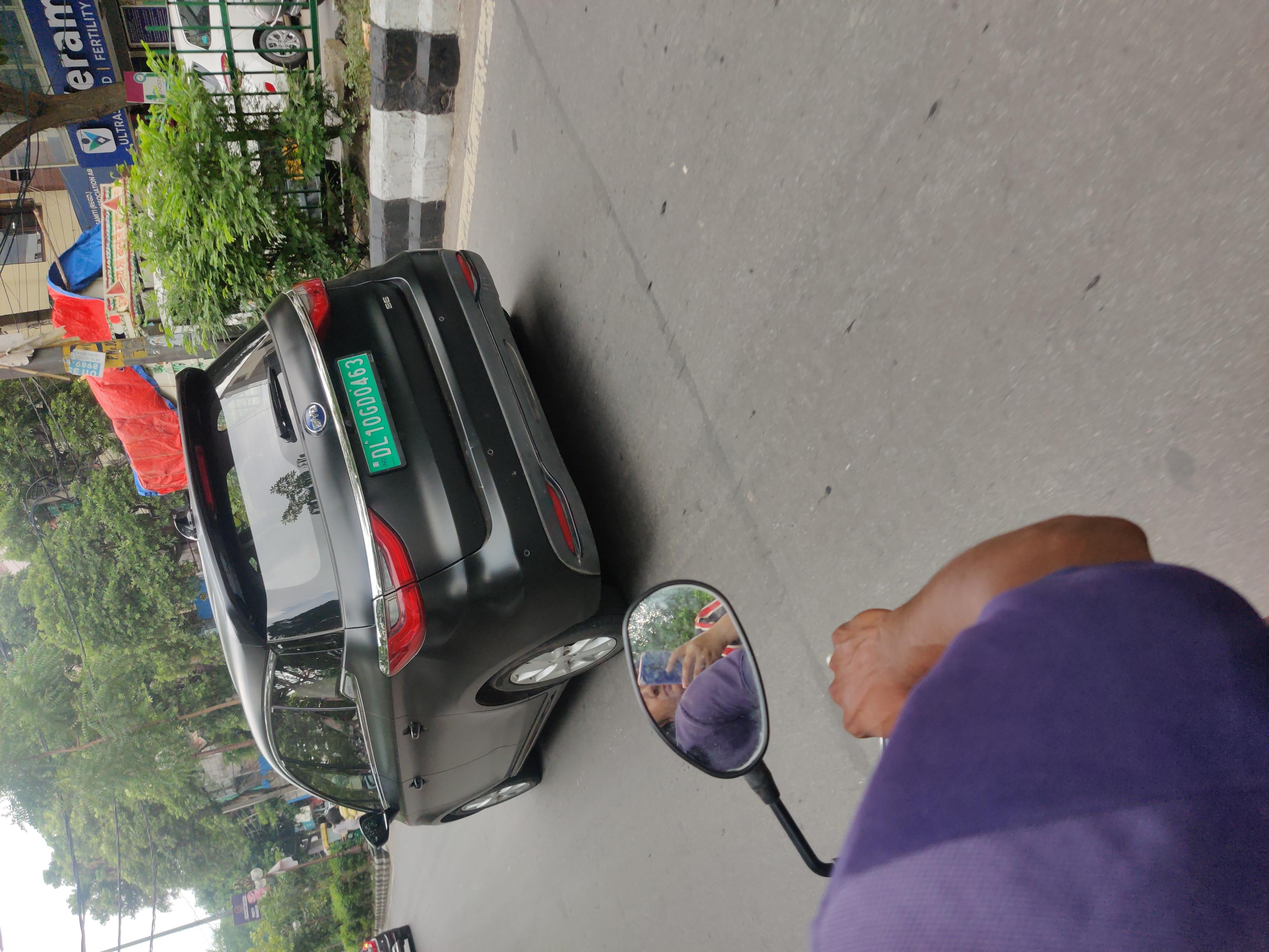green license plate: (635, 243, 810, 305)
